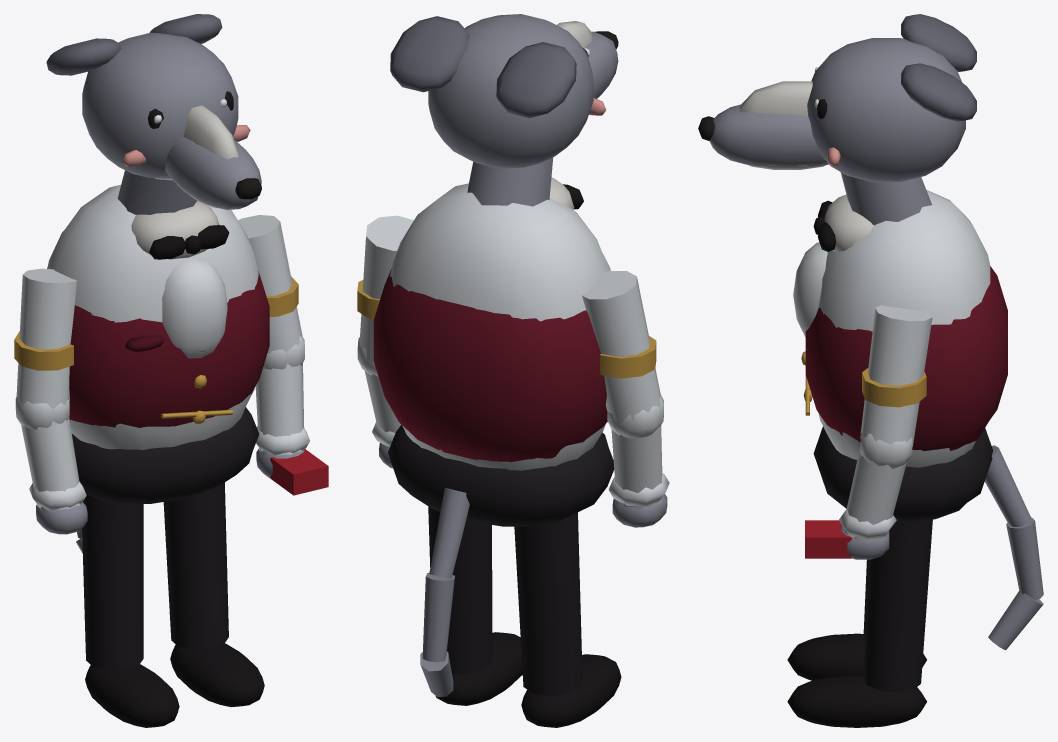
File: gideon.glb
3 views of the same model, side by side, from view 1: azimuth 30°, elevation 25°; view 2: azimuth 150°, elevation 25°; view 3: azimuth 270°, elevation 25° (orthographic). The views are drawn at different scales.
Parts seen in each view (by area): view 1: Gideon_Body, Gideon_Head, Gideon_ArmR, Gideon_ArmL; view 2: Gideon_Body, Gideon_Head, Gideon_ArmR, Gideon_Tail, Gideon_ArmL; view 3: Gideon_Body, Gideon_Head, Gideon_ArmL, Gideon_Tail.
Part boxes in pixels (left/top/right/bottom): Gideon_Body: left=47, top=185, right=269, bottom=727; Gideon_Head: left=46, top=14, right=261, bottom=259; Gideon_ArmR: left=14, top=268, right=87, bottom=534; Gideon_ArmL: left=238, top=215, right=328, bottom=495; Gideon_Body: left=373, top=183, right=621, bottom=727; Gideon_Head: left=390, top=14, right=618, bottom=209; Gideon_ArmR: left=582, top=271, right=669, bottom=527; Gideon_Tail: left=420, top=487, right=469, bottom=697; Gideon_ArmL: left=357, top=215, right=413, bottom=468; Gideon_Body: left=787, top=190, right=1007, bottom=727; Gideon_Head: left=698, top=14, right=976, bottom=251; Gideon_ArmL: left=805, top=305, right=932, bottom=559; Gideon_Tail: left=984, top=445, right=1043, bottom=649.
Bounding box in the file's own units: 0.5599 × 1.24 × 0.5929.
